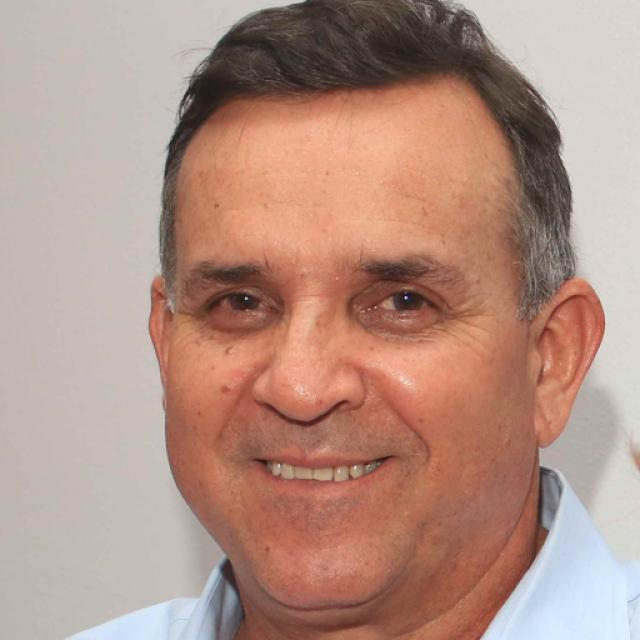Acne: (294, 262, 315, 285), (215, 380, 236, 397), (215, 343, 236, 359)
Dark Circle: (356, 314, 446, 345), (211, 310, 281, 337)
